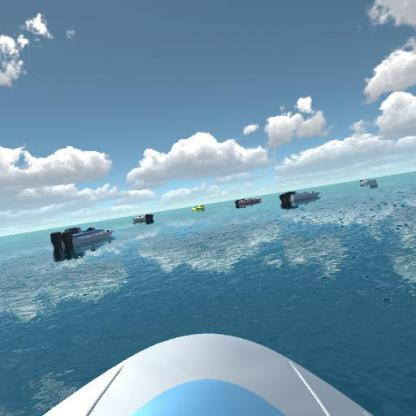usv1: (50, 224, 119, 258), (278, 187, 322, 206), (358, 175, 378, 190)
usv2: (192, 201, 208, 215)
usv3: (233, 194, 262, 210), (129, 211, 155, 226)
